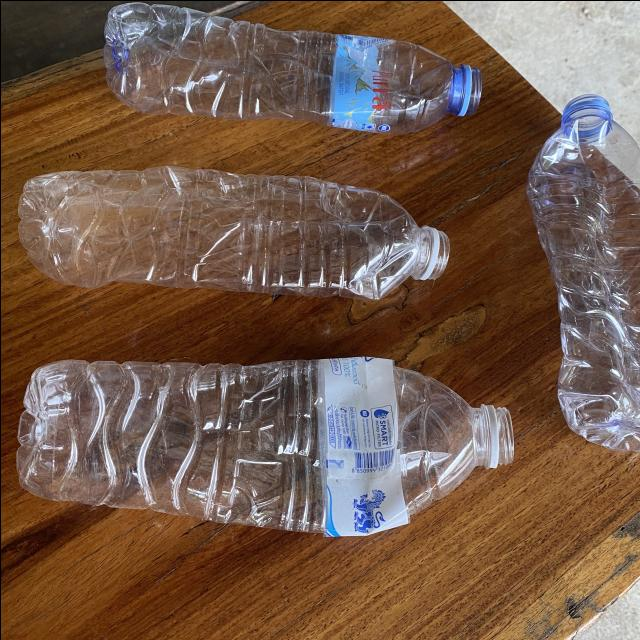plastik: (16, 357, 513, 536), (18, 166, 449, 299), (102, 2, 481, 133), (526, 93, 640, 452)
